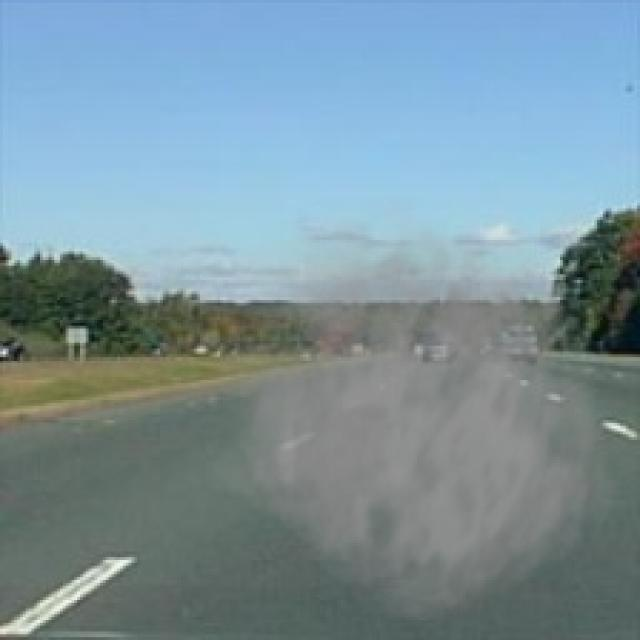smoke: (206, 197, 620, 623)
